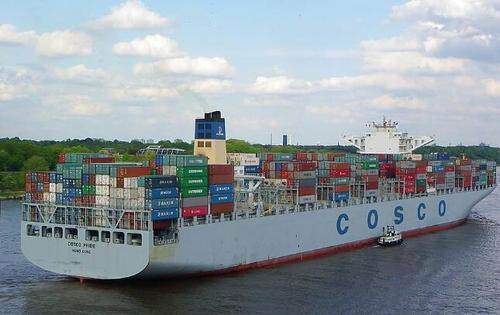Cargoship: (18, 104, 500, 269), (376, 223, 406, 245)
